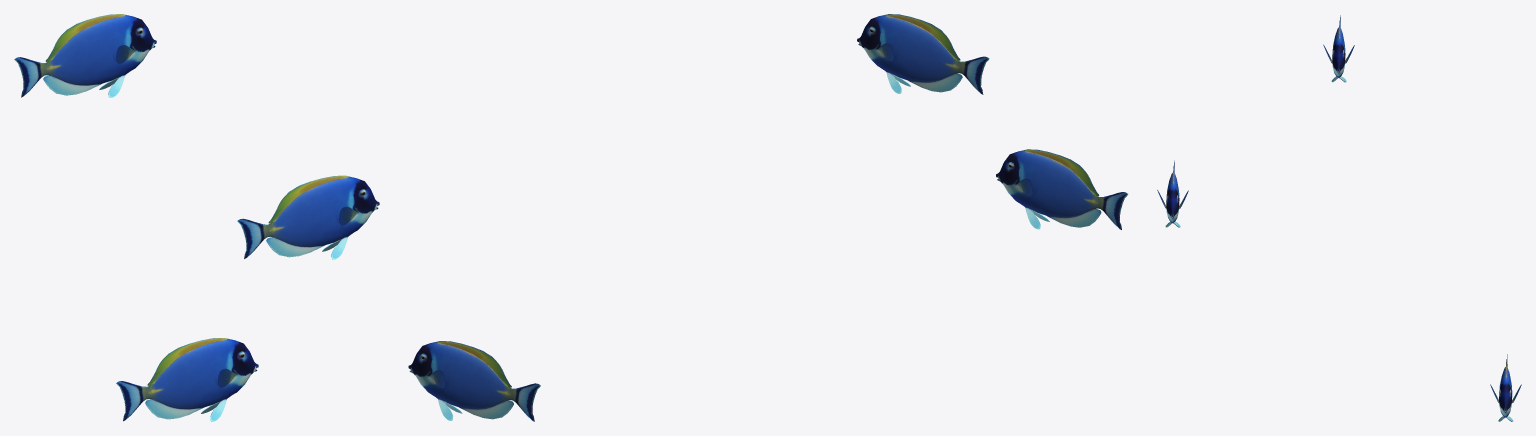
Rendered from bluefish-ani.gltf.
3 views of the same model, side by side, from view 1: azimuth 30°, elevation 25°; view 2: azimuth 150°, elevation 25°; view 3: azimuth 270°, elevation 25° (orthographic). The views are drawn at different scales.
Parts seen in each view (by area): view 1: Dory.001, Dory.002, Dory; view 2: Dory.001, Dory, Dory.002; view 3: Dory, Dory.001, Dory.002.
Boxes of the visible parts, bbox=[...] form: Dory.001: bbox=[237, 175, 379, 259]; Dory.002: bbox=[116, 338, 258, 421]; Dory: bbox=[14, 14, 156, 97]; Dory.001: bbox=[408, 341, 540, 421]; Dory: bbox=[857, 14, 989, 94]; Dory.002: bbox=[996, 149, 1128, 229]; Dory: bbox=[1323, 15, 1354, 82]; Dory.001: bbox=[1490, 354, 1521, 421]; Dory.002: bbox=[1157, 160, 1188, 227].
Bounding box in the file's own units: 1.72 × 1.34 × 1.59.
1 material, 1 textured.
